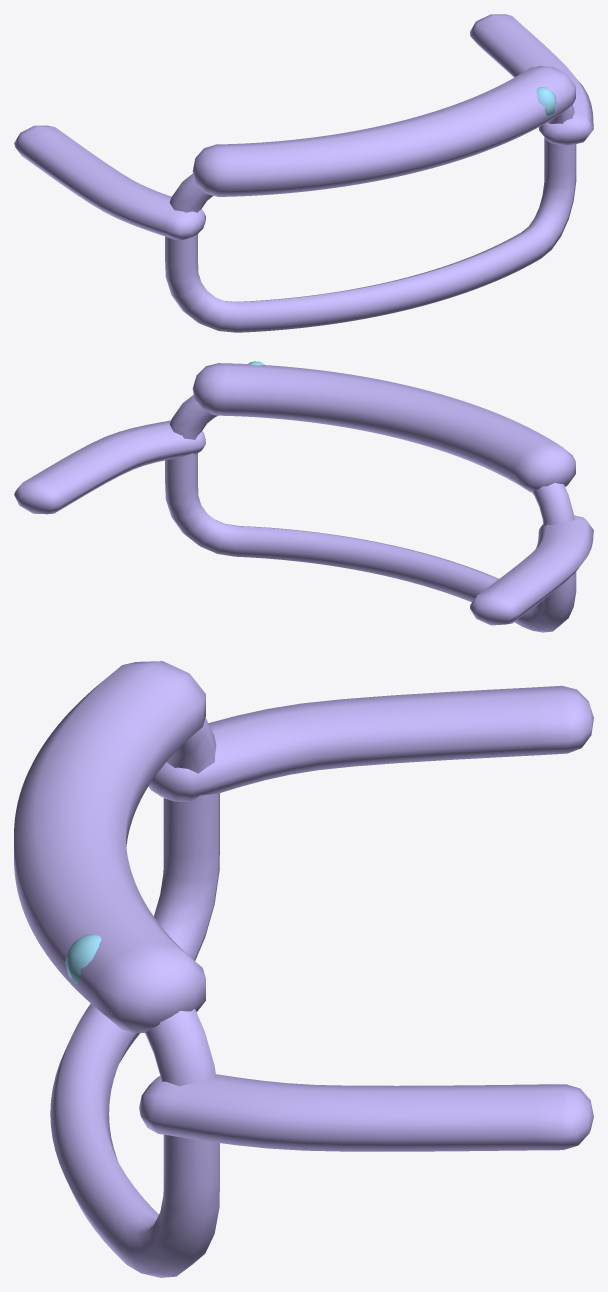
The model's file is visor.glb.
The picture shows the model from 3 angles, top to bottom: view 1: azimuth 30°, elevation 25°; view 2: azimuth 150°, elevation 25°; view 3: azimuth 270°, elevation 25°; orthographic projection. The views are drawn at different scales.
Parts seen in each view (by area): view 1: visor-mesh; view 2: visor-mesh; view 3: visor-mesh.
Part boxes in pixels (x1,y1,x2,y2): visor-mesh: (14, 14, 593, 332); visor-mesh: (14, 361, 593, 632); visor-mesh: (14, 661, 593, 1277).
Size of the model in its own units: 1.06 by 0.375 by 0.592.
